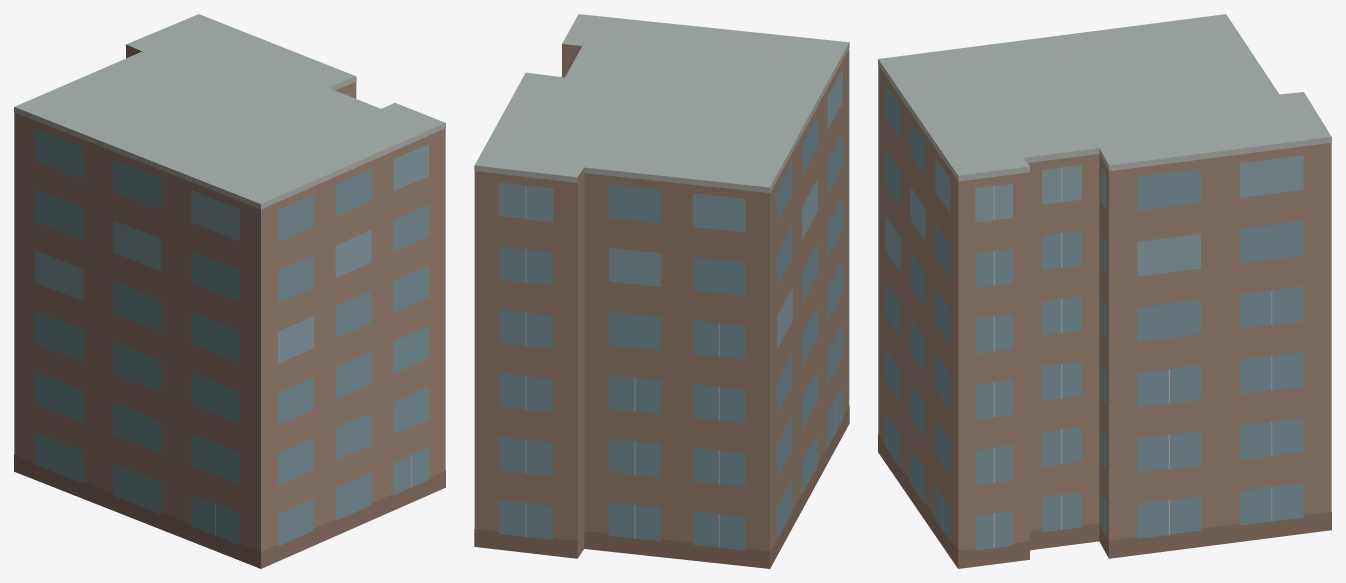
File: survey-upis-32579585.glb
3 renders of one model, left to right at view 1: azimuth 30°, elevation 25°; view 2: azimuth 150°, elevation 25°; view 3: azimuth 270°, elevation 25°, orthographic. The views are drawn at different scales.
Parts seen in each view (by area): view 1: survey-upis-32579585.tmp; view 2: survey-upis-32579585.tmp; view 3: survey-upis-32579585.tmp.
Part boxes in pixels (x1,y1,x2,y2): survey-upis-32579585.tmp: [14, 14, 445, 568]; survey-upis-32579585.tmp: [474, 14, 849, 568]; survey-upis-32579585.tmp: [878, 14, 1331, 568].
Size of the model in its own units: 14.74 by 16.7 by 17.47.
